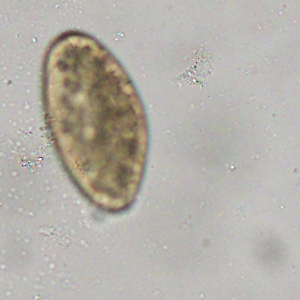Fasciola_hepatica_egg: (40, 28, 151, 215)
